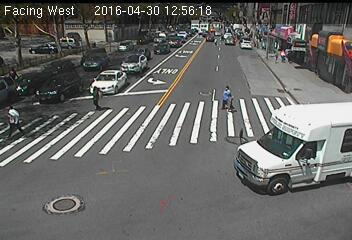neg: (224, 127, 256, 170), (49, 186, 74, 220), (43, 107, 64, 134), (150, 72, 167, 94), (301, 57, 312, 72), (240, 35, 251, 50), (21, 83, 32, 97), (212, 37, 219, 47), (257, 41, 264, 51)
pos: (1, 105, 27, 141), (216, 83, 238, 112), (84, 84, 104, 111), (272, 49, 285, 65), (279, 49, 289, 63)
